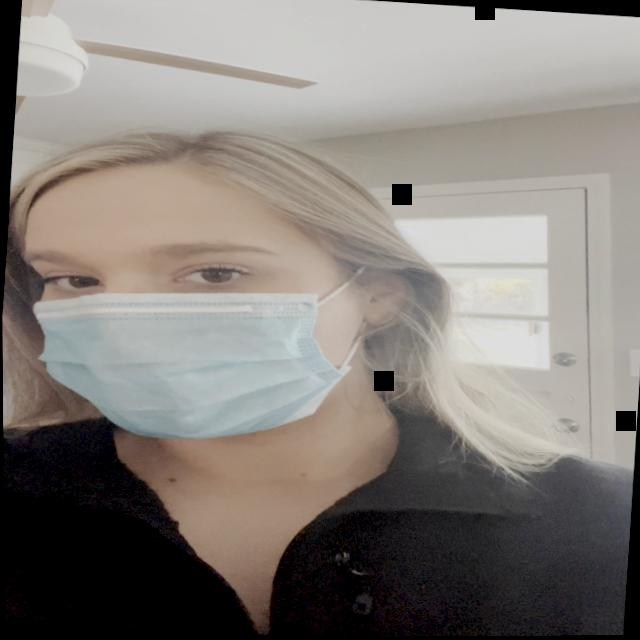Mask: (1, 150, 473, 468)
